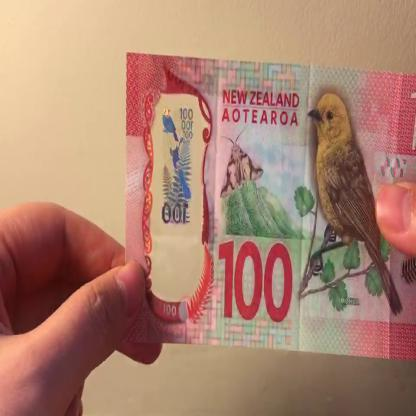100B: (158, 102, 196, 284)
